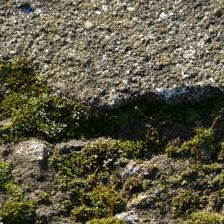Crack: (22, 81, 221, 155)
